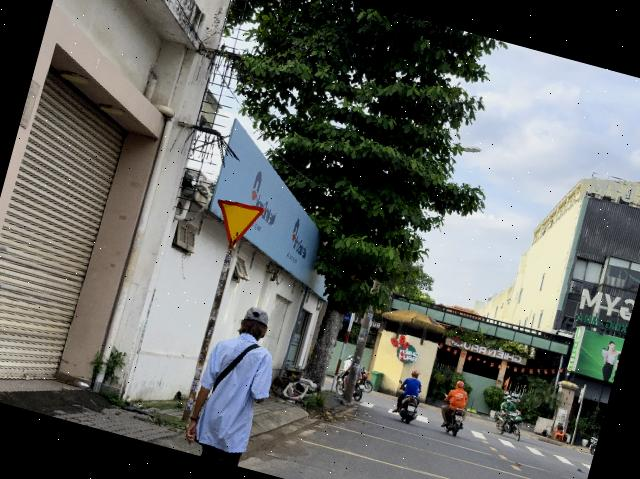giao-nhau-voi-duong-uu-tien: (206, 194, 266, 252)
